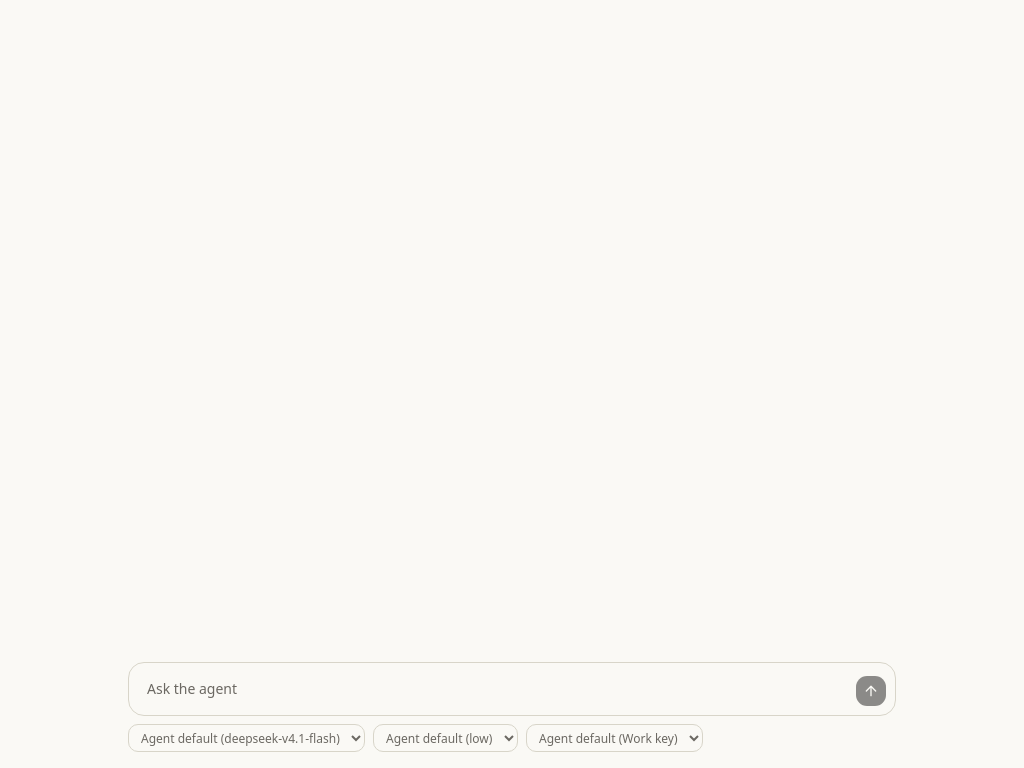
Scenario: ChatPane › shows a sent line immediately and replaces it with the stored entry
Later steps or results of the test are not shown.
In the text box named "Message": point(492, 689) [137,671,847,707], type "hello there"
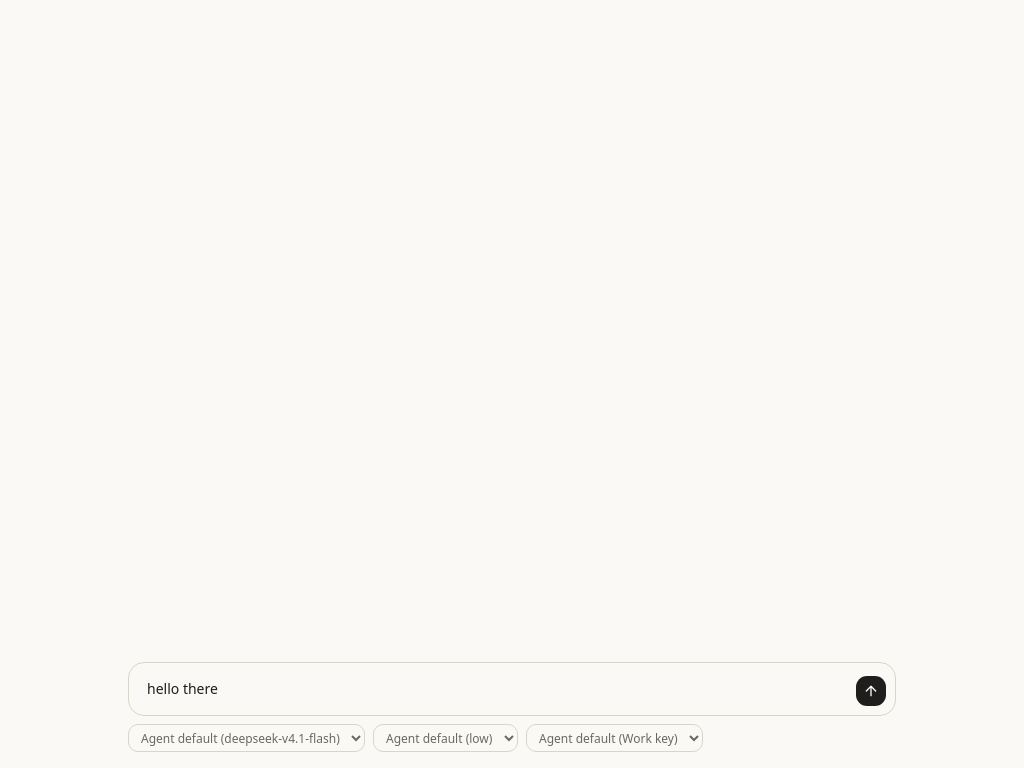
Click the button named "Send message": point(871, 691) [855,675,887,707]
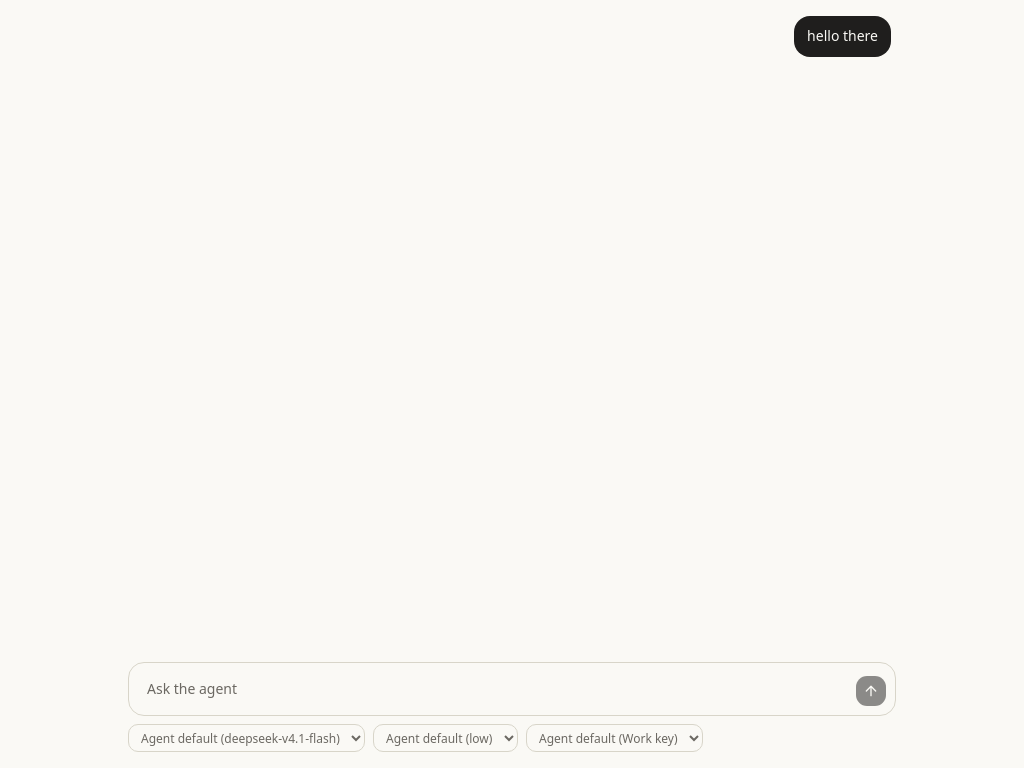
Now the button "hello there" is shown, box [794,16,891,57]
